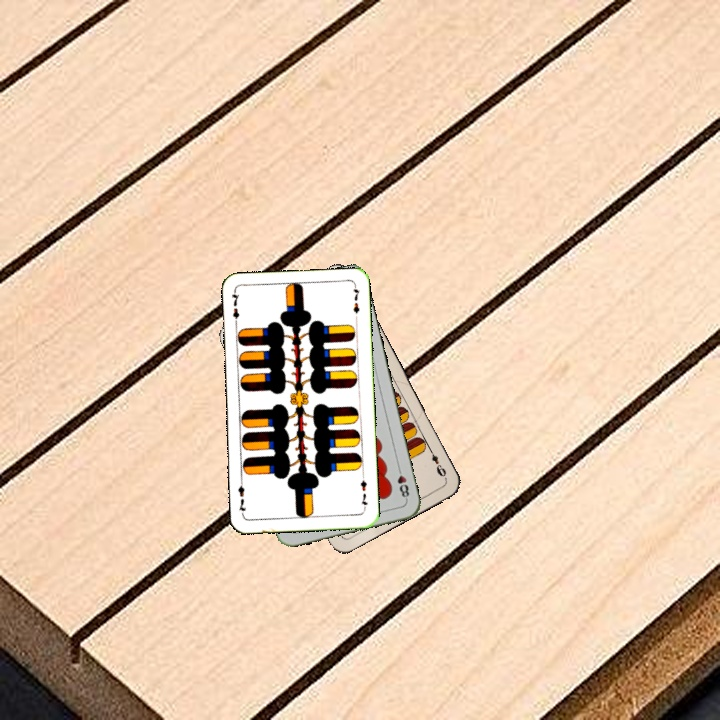E7: (356, 471, 370, 512), (228, 288, 242, 329)
E9: (425, 444, 449, 482)
H8: (393, 462, 412, 503)
